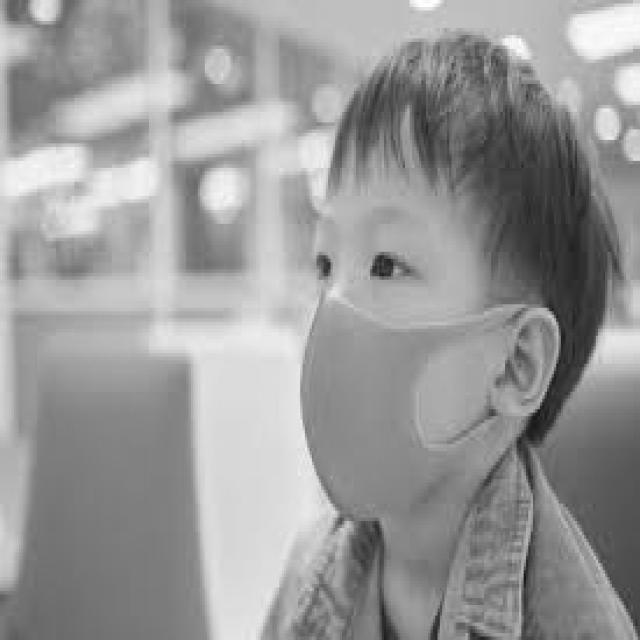with_mask: (298, 283, 528, 525)
